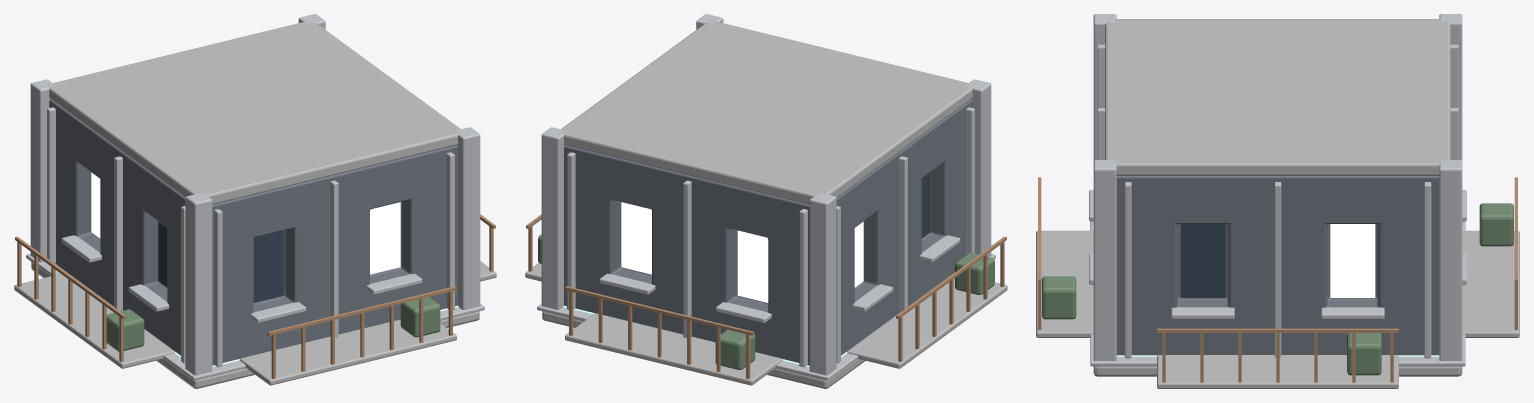
The model's file is res_3x3.glb.
The picture shows the model from 3 angles, left to right: view 1: azimuth 30°, elevation 25°; view 2: azimuth 150°, elevation 25°; view 3: azimuth 270°, elevation 25°; orthographic projection. The views are drawn at different scales.
Parts seen in each view (by area): view 1: ext_wall, int_ceiling, int_columns, ext_frames, ext_balcony3, ext_balcony2, ext_panes_dark, ext_panes_lit, ext_rail3, ext_rail2, ext_plant2, ext_plant3 (+2 smaller); view 2: ext_wall, int_ceiling, int_columns, ext_frames, ext_balcony1, ext_balcony2, ext_panes_lit, ext_rail1, ext_rail2, ext_plant1, int_slab, ext_plant2 (+2 smaller); view 3: int_ceiling, ext_wall, int_columns, ext_frames, ext_balcony0, ext_balcony1, ext_balcony3, ext_panes_lit, ext_panes_dark, ext_rail0, ext_plant1, ext_plant3 (+5 smaller).
Part boxes in pixels (x1,y1,x2,y2): ext_wall: (49,99,457,365); int_ceiling: (47,20,462,204); int_columns: (30,14,480,375); ext_frames: (47,107,454,367); ext_balcony3: (239,319,456,385); ext_balcony2: (14,273,174,368); ext_panes_dark: (158,221,284,302); ext_panes_lit: (91,172,400,274); ext_rail3: (267,286,456,379); ext_rail2: (15,236,125,361); ext_plant2: (106,309,144,351); ext_plant3: (400,297,440,337); ext_wall: (564,99,972,365); int_ceiling: (559,21,972,204); int_columns: (541,14,991,375); ext_frames: (567,107,974,367); ext_balcony1: (565,313,782,385); ext_balcony2: (847,273,1007,368); ext_panes_lit: (621,202,863,302); ext_rail1: (565,286,754,379); ext_rail2: (896,236,1006,361); ext_plant1: (715,329,755,369); int_slab: (542,311,865,388); ext_plant2: (955,252,994,294); int_ceiling: (1105,19,1450,175); ext_wall: (1116,176,1439,355); int_columns: (1093,14,1462,360); ext_frames: (1089,44,1466,358); ext_balcony0: (1157,355,1398,388); ext_balcony1: (1462,230,1519,337); ext_balcony3: (1036,230,1093,337); ext_panes_lit: (1330,224,1375,297); ext_panes_dark: (1180,224,1225,297); ext_rail0: (1157,328,1398,382); ext_plant1: (1479,203,1513,246); ext_plant3: (1042,276,1076,319).
Size of the model in its own units: 4.2 by 2 by 4.2.
